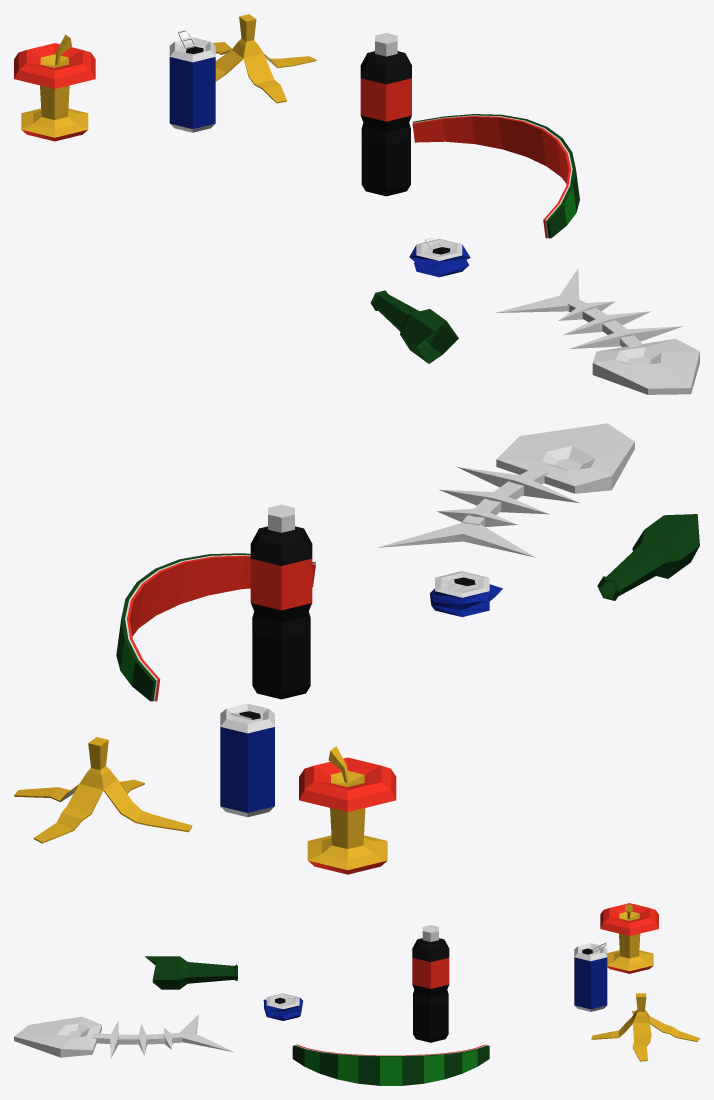
The model's file is Garbage.FBX.
The picture shows the model from 3 angles, top to bottom: view 1: azimuth 30°, elevation 25°; view 2: azimuth 150°, elevation 25°; view 3: azimuth 270°, elevation 25°; orthographic projection. The views are drawn at different scales.
Visible parts, largest first — view 1: Fish, Cylinder005, Watermelon, Apple, Can01, Bottle, Banana, Can02; view 2: Fish, Cylinder005, Apple, Watermelon, Can01, Banana, Bottle, Can02; view 3: Watermelon, Fish, Cylinder005, Apple, Can01, Bottle, Banana, Can02.
Boxes of the visible parts, <box> form: Fish: <box>495,268,699,394</box>; Cylinder005: <box>360,33,411,196</box>; Watermelon: <box>412,114,579,238</box>; Apple: <box>14,34,95,141</box>; Can01: <box>169,29,215,132</box>; Bottle: <box>370,290,458,363</box>; Banana: <box>213,14,316,103</box>; Can02: <box>409,238,470,277</box>; Fish: <box>377,423,634,557</box>; Cylinder005: <box>250,504,312,699</box>; Apple: <box>299,746,396,874</box>; Watermelon: <box>116,553,315,701</box>; Can01: <box>220,703,274,817</box>; Banana: <box>14,737,192,843</box>; Bottle: <box>597,514,699,600</box>; Can02: <box>430,571,502,617</box>; Watermelon: <box>292,1044,489,1085</box>; Fish: <box>14,1014,234,1057</box>; Cylinder005: <box>412,925,449,1042</box>; Apple: <box>600,903,658,973</box>; Can01: <box>574,942,607,1011</box>; Bottle: <box>145,956,237,989</box>; Banana: <box>591,993,699,1061</box>; Can02: <box>263,993,302,1020</box>.
Size of the model in its own units: 0.2448 by 0.0928 by 0.5305.
